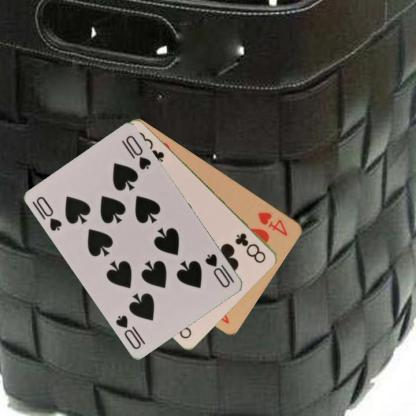10s: (202, 251, 236, 289), (34, 194, 64, 232)
4h: (254, 208, 290, 238)
8c: (232, 231, 268, 264)
